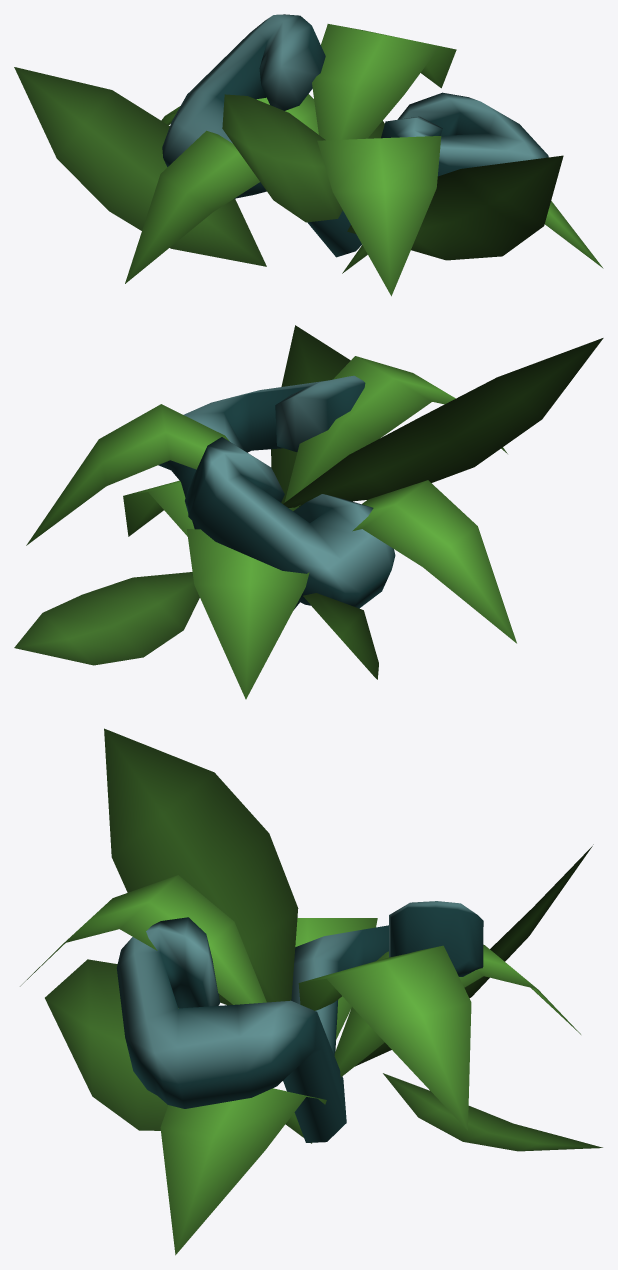
The model's file is Flower6.fbx.
3 renders of one model, top to bottom at view 1: azimuth 30°, elevation 25°; view 2: azimuth 150°, elevation 25°; view 3: azimuth 270°, elevation 25°, orthographic. The views are drawn at different scales.
Visible parts, largest first — view 1: pCube71; view 2: pCube71; view 3: pCube71.
Part boxes in pixels (x1,y1,x2,y2): pCube71: (14, 14, 603, 296); pCube71: (14, 325, 603, 699); pCube71: (20, 728, 602, 1255).
Bounding box in the file's own units: 71.32 × 42.74 × 76.44.
